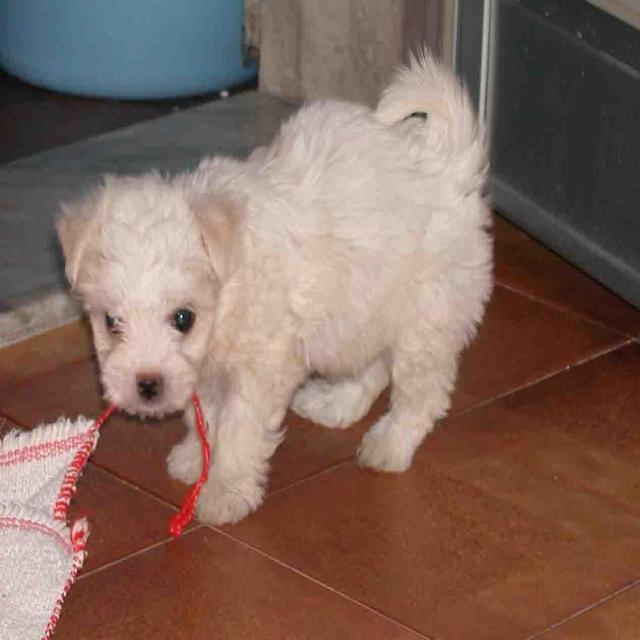puppy-dog: (50, 45, 493, 526)
